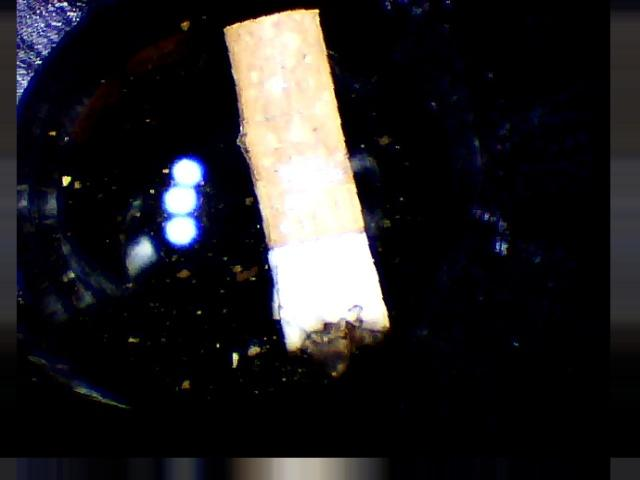megot: (185, 1, 420, 384)
